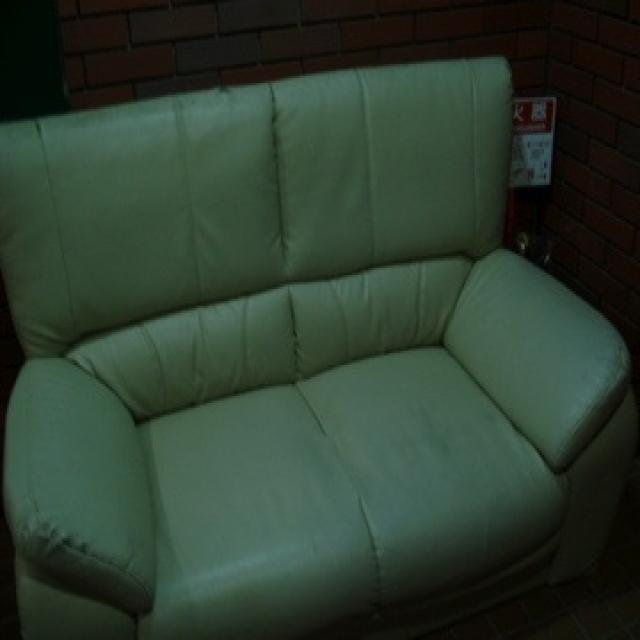sofa: (5, 50, 633, 638)
